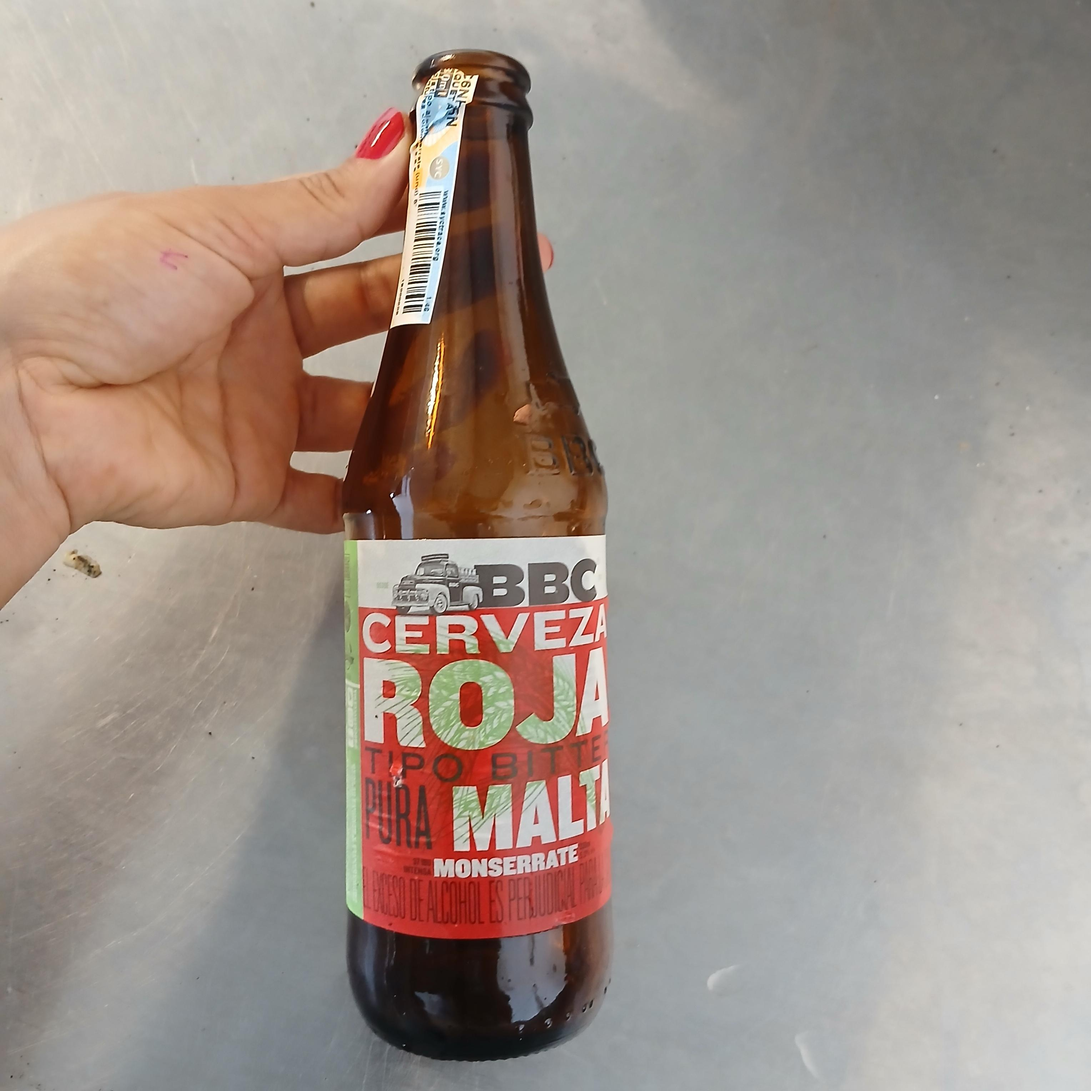Vidrio: (344, 50, 612, 1059)
